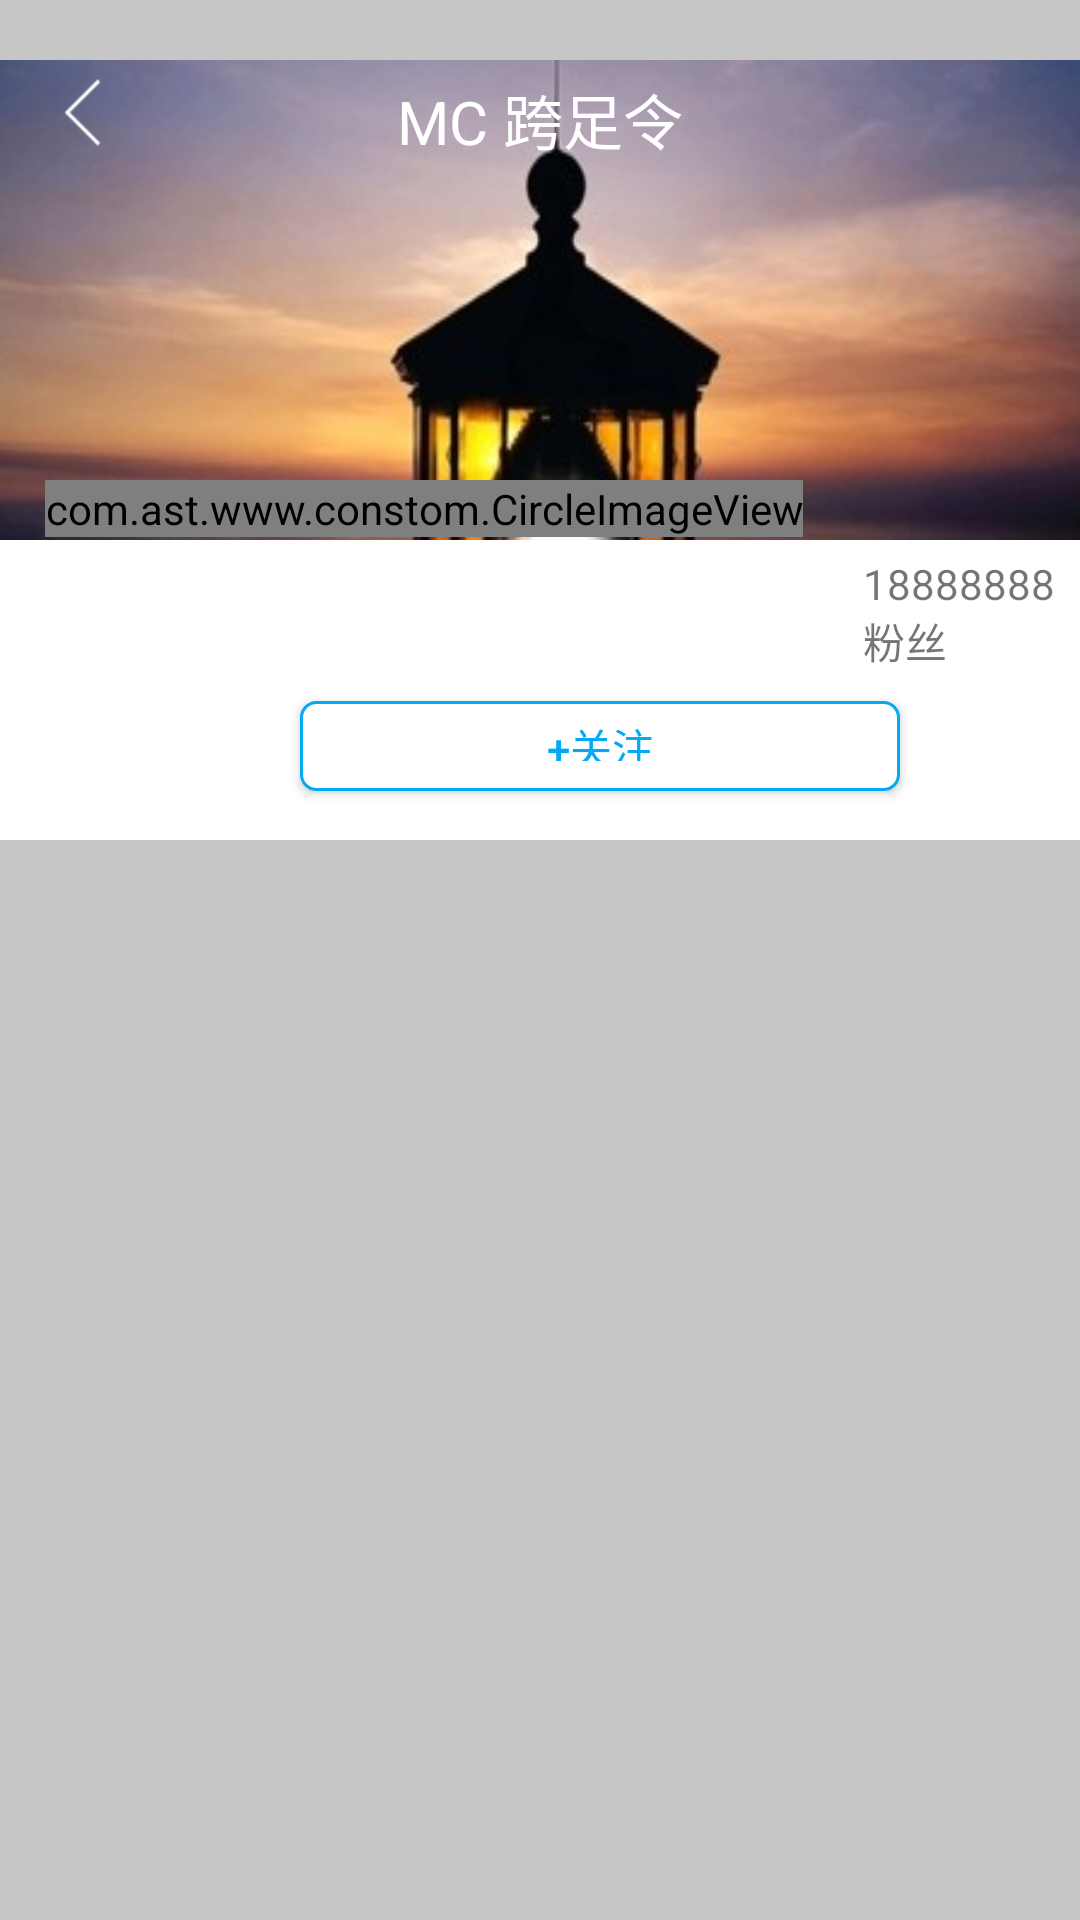

Where icons sit on this 1080*1920 app screen, as (x1, y1, x2, y2):
zuojiantou bai: (45, 75, 120, 150)
